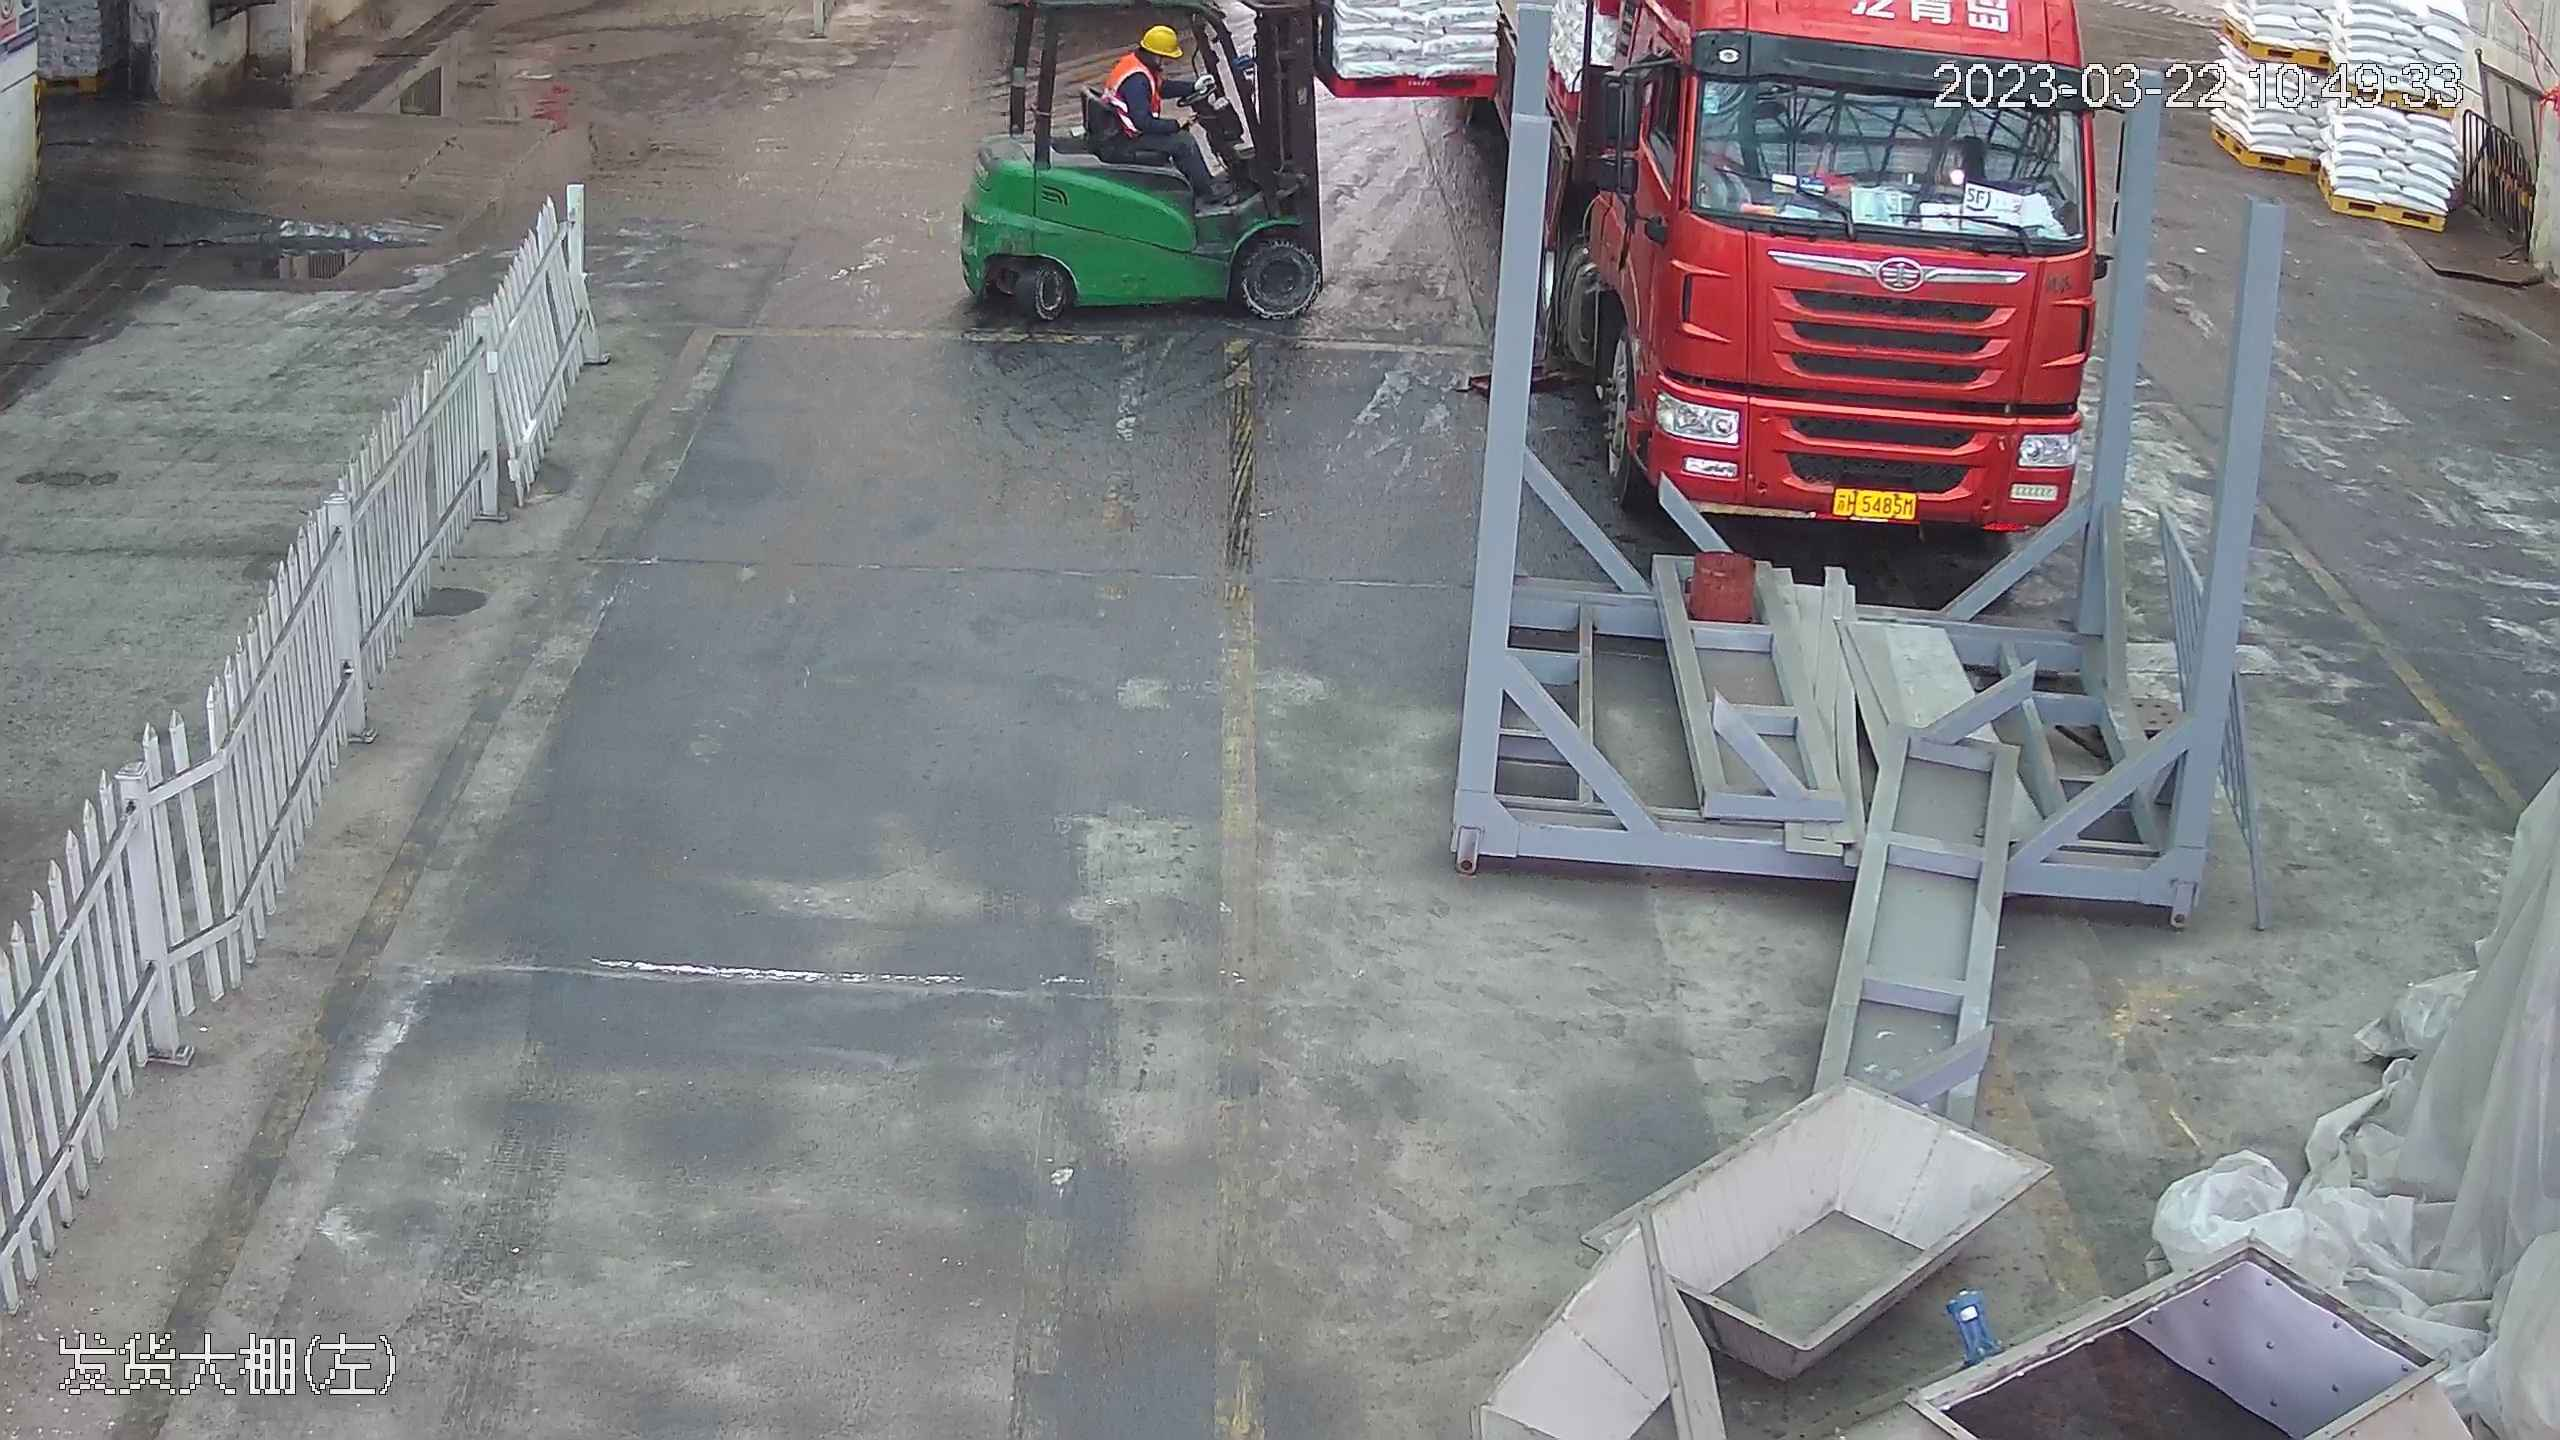head: (1112, 23, 1190, 103)
helmet: (1137, 22, 1183, 56)
people: (1102, 18, 1230, 192)
truck: (1522, 1, 2112, 539)
